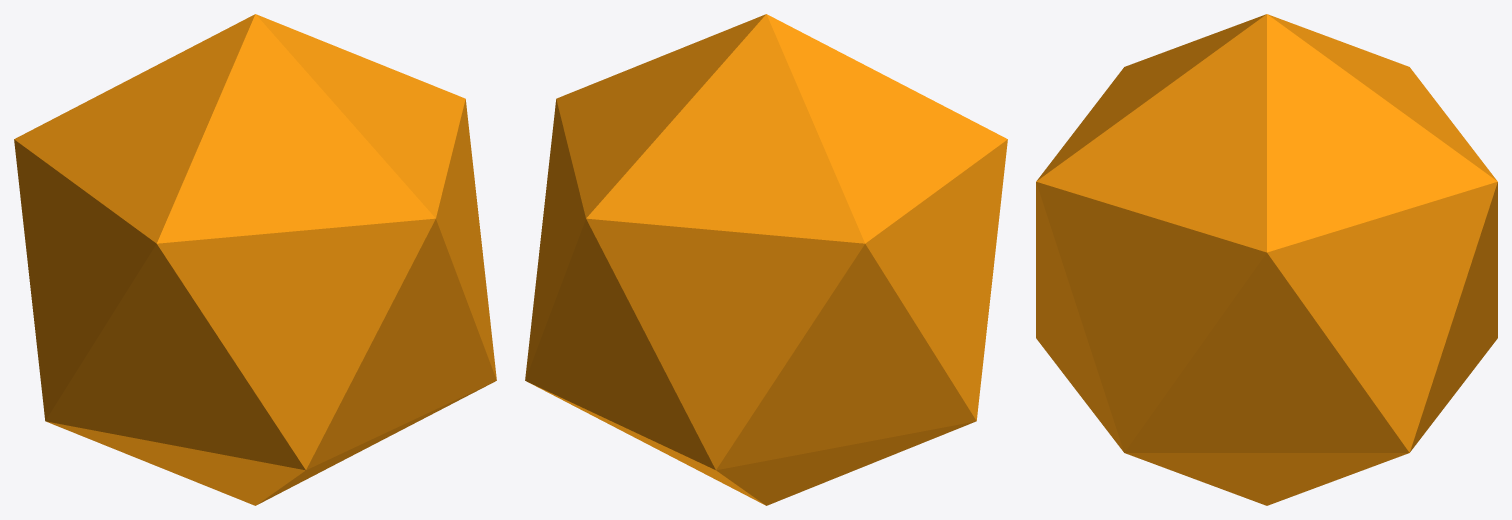
File: LuminousOrb.obj
3 renders of one model, left to right at view 1: azimuth 30°, elevation 25°; view 2: azimuth 150°, elevation 25°; view 3: azimuth 270°, elevation 25°, orthographic.
Visible parts, largest first — view 1: EXPORT_LuminousOrb; view 2: EXPORT_LuminousOrb; view 3: EXPORT_LuminousOrb.
Part boxes in pixels (x1,y1,x2,y2): EXPORT_LuminousOrb: [14, 14, 496, 505]; EXPORT_LuminousOrb: [525, 14, 1007, 505]; EXPORT_LuminousOrb: [1036, 14, 1497, 505].
Bounding box in the file's own units: 0.322 × 0.36 × 0.3062.
